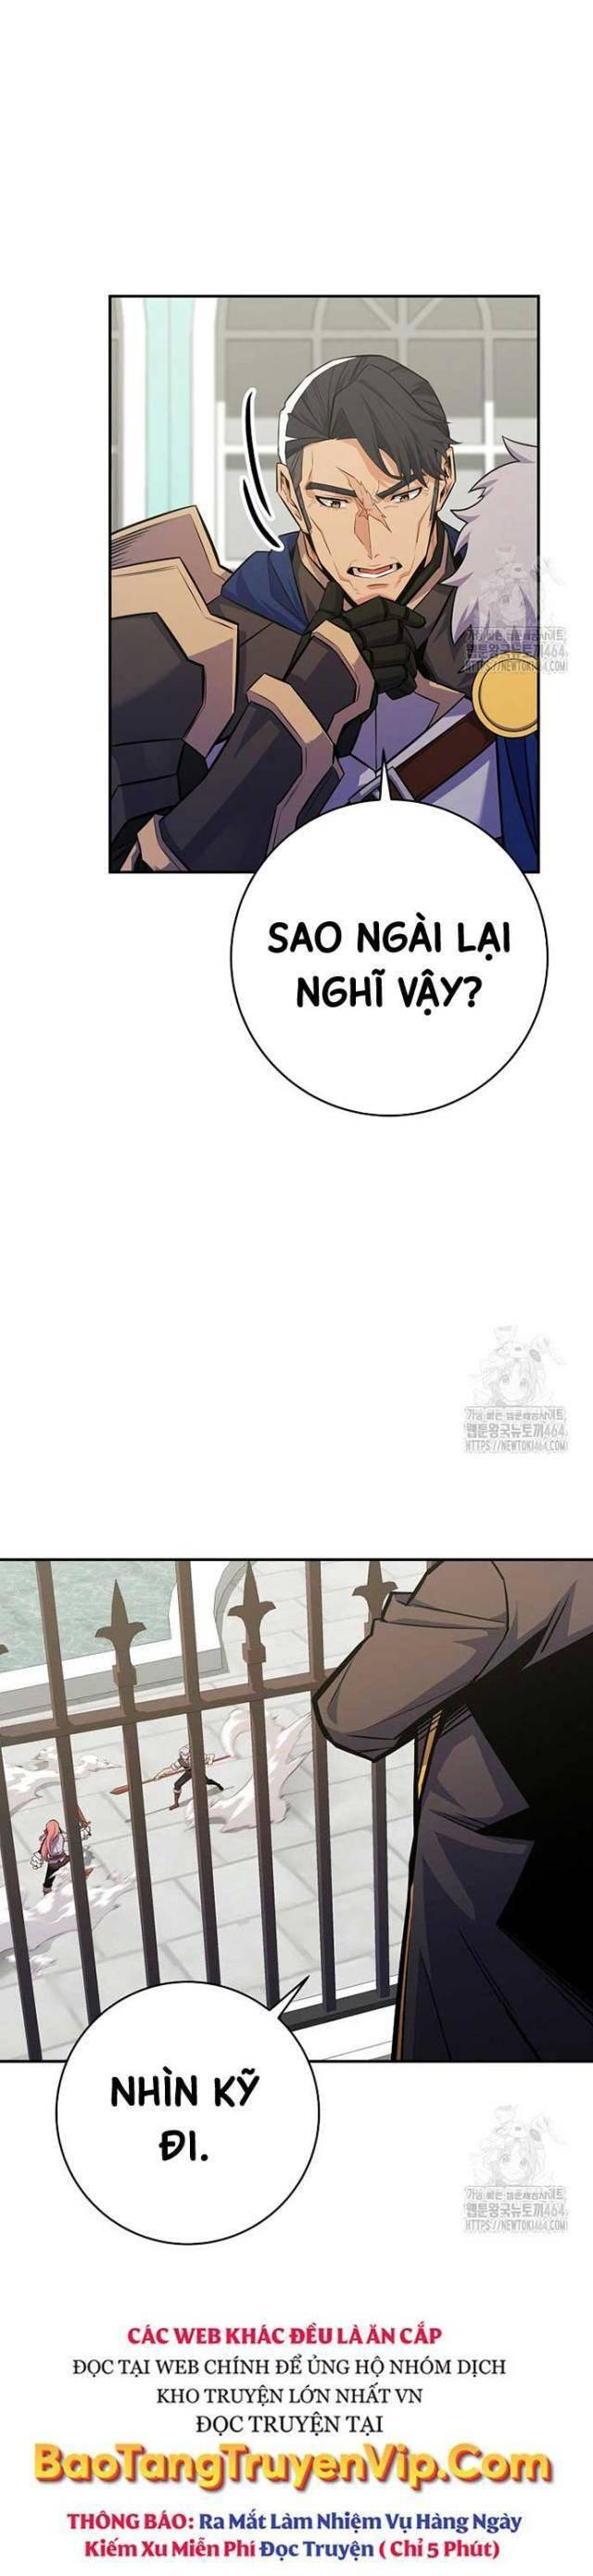quangcao: (28, 2318, 562, 2568)
